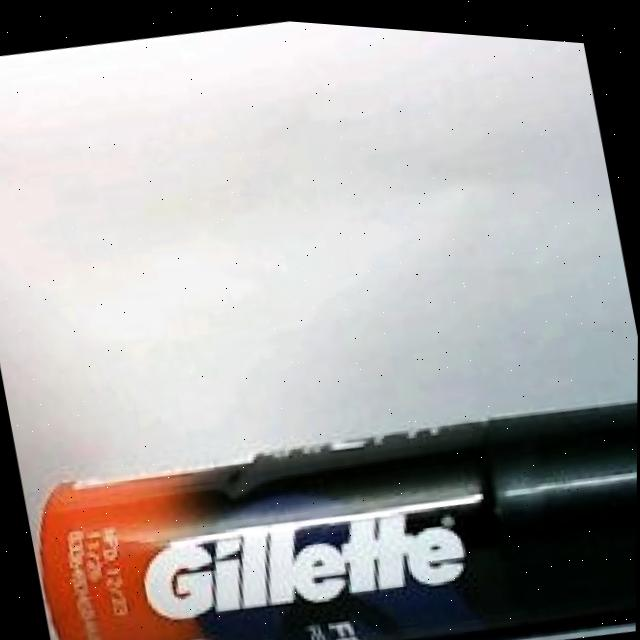gillette-foam: (40, 393, 638, 640)
